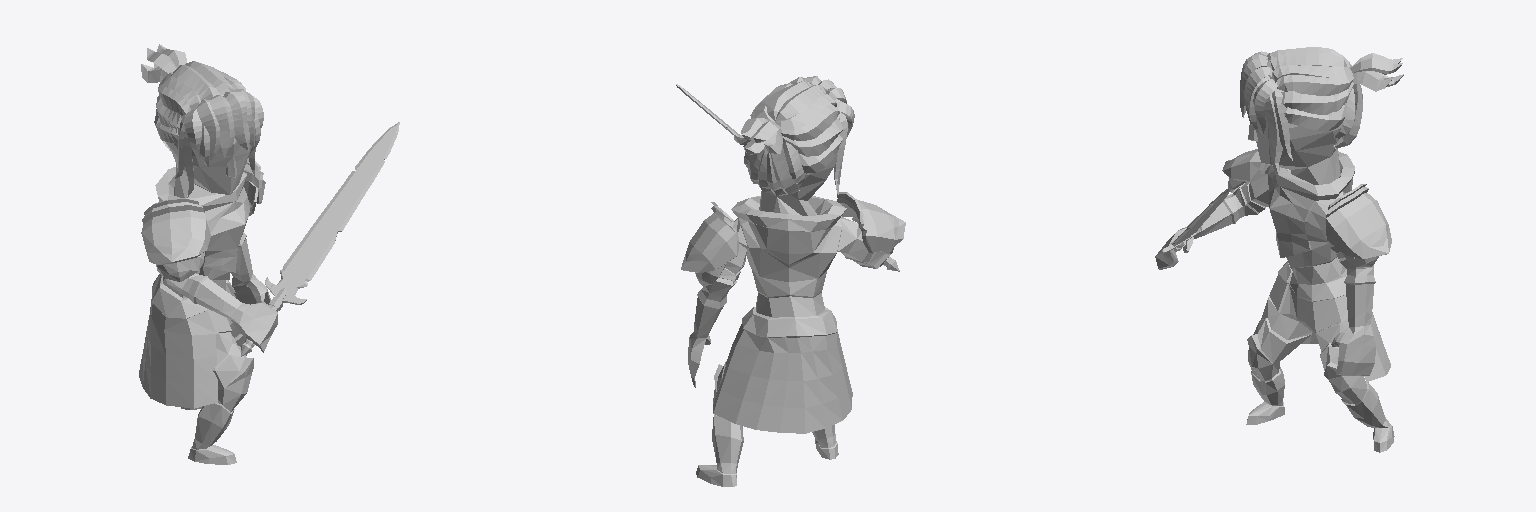
3 renders of one model, left to right at view 1: azimuth 30°, elevation 25°; view 2: azimuth 150°, elevation 25°; view 3: azimuth 270°, elevation 25°, orthographic.
Visible parts, largest first — view 1: Warrior.002__ncl1_29.005, Face__ncl1_29.002, Warrior_Sword_Cylinder.001, Shoulder.R__ncl1_29.001, Shoulder.L__ncl1_29.000; view 2: Warrior.002__ncl1_29.005, Face__ncl1_29.002, Shoulder.L__ncl1_29.000, Shoulder.R__ncl1_29.001; view 3: Warrior.002__ncl1_29.005, Face__ncl1_29.002, Shoulder.L__ncl1_29.000, Shoulder.R__ncl1_29.001, Warrior_Sword_Cylinder.001.
Part boxes in pixels (left/top/right/bottom): Warrior.002__ncl1_29.005: left=139, top=116, right=277, bottom=464; Face__ncl1_29.002: left=141, top=44, right=263, bottom=197; Warrior_Sword_Cylinder.001: left=241, top=122, right=399, bottom=356; Shoulder.R__ncl1_29.001: left=141, top=198, right=210, bottom=281; Shoulder.L__ncl1_29.000: left=243, top=158, right=265, bottom=215; Warrior.002__ncl1_29.005: left=688, top=119, right=890, bottom=486; Face__ncl1_29.002: left=734, top=76, right=854, bottom=195; Shoulder.L__ncl1_29.000: left=681, top=202, right=738, bottom=286; Shoulder.R__ncl1_29.001: left=837, top=192, right=905, bottom=254; Warrior.002__ncl1_29.005: left=1155, top=110, right=1394, bottom=452; Face__ncl1_29.002: left=1240, top=47, right=1403, bottom=175; Shoulder.L__ncl1_29.000: left=1325, top=184, right=1391, bottom=266; Shoulder.R__ncl1_29.001: left=1222, top=149, right=1269, bottom=192; Warrior_Sword_Cylinder.001: left=1162, top=189, right=1229, bottom=253.
Size of the model in its own units: 1.87 by 2.81 by 1.71.